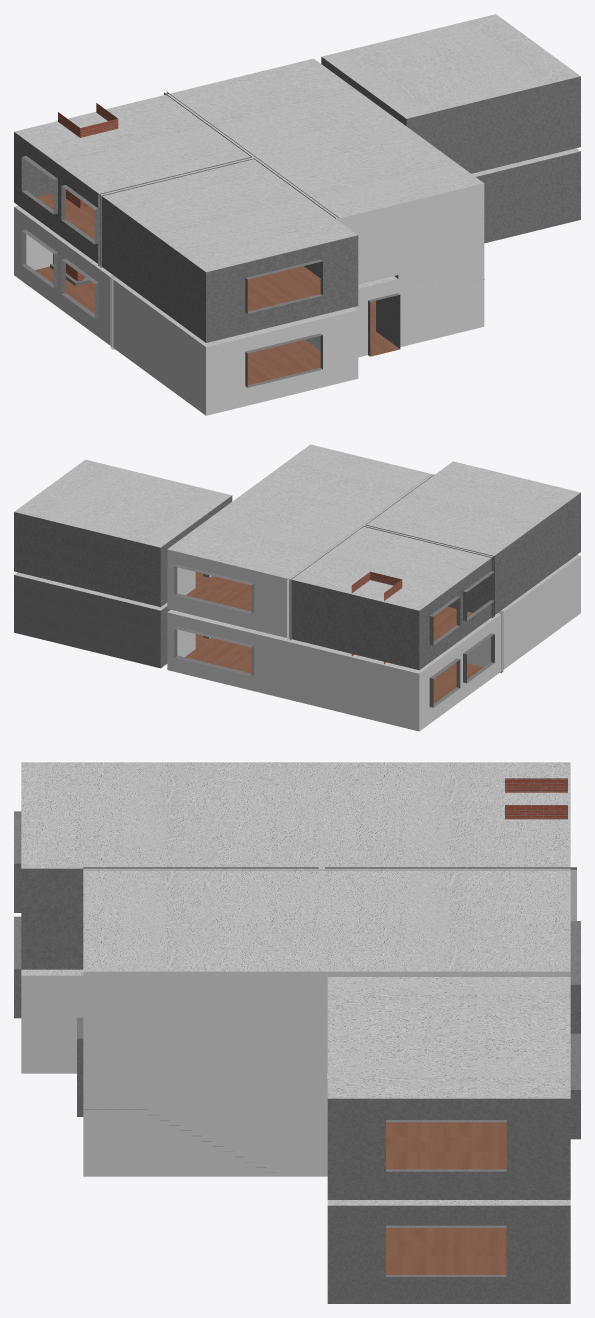
Rendered from mansion-inside-2.glb.
3 views of the same model, one above another, from view 1: azimuth 30°, elevation 25°; view 2: azimuth 150°, elevation 25°; view 3: azimuth 270°, elevation 25° (orthographic). The views are drawn at different scales.
Visible parts, largest first — view 1: walls, walls-inside.001, fireplate, stairs; view 2: walls, walls-inside.001, walls-inside.002, fireplate; view 3: walls, walls-inside.001, fireplate.
Part boxes in pixels (bbox=[...]): walls: bbox=[14, 14, 580, 415]; walls-inside.001: bbox=[98, 91, 338, 277]; fireplate: bbox=[50, 103, 118, 285]; stairs: bbox=[376, 275, 484, 347]; walls: bbox=[14, 444, 580, 731]; walls-inside.001: bbox=[287, 474, 494, 640]; walls-inside.002: bbox=[467, 611, 503, 673]; fireplate: bbox=[351, 571, 402, 663]; walls: bbox=[14, 762, 580, 1303]; walls-inside.001: bbox=[83, 867, 576, 920]; fireplate: bbox=[505, 778, 567, 819].
Size of what is drawn, in the model's own units: 3.39 by 1.03 by 2.38.
Materials: 5 (4 with a texture image).
